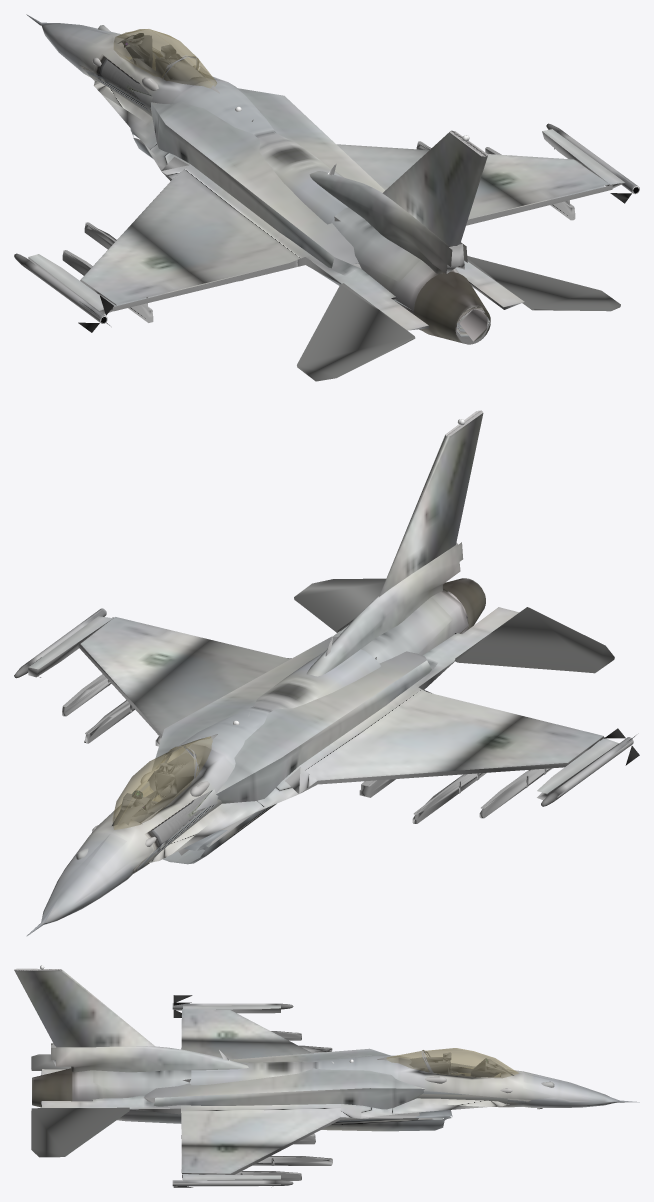
The picture shows the model from 3 angles, top to bottom: view 1: azimuth 30°, elevation 25°; view 2: azimuth 150°, elevation 25°; view 3: azimuth 270°, elevation 25°; orthographic projection. The views are drawn at different scales.
Visible parts, largest first — view 1: body|F16_text_L, body|F16_text_R.001, body|Not_so_dark, body|F16_Grey, body|glass (×2), body|Whitish_grey.001, body|Material.001, body|Material.005; view 2: body|F16_text_L, body|F16_text_R.001, body|glass, body|Material.001, body|F16_Grey, body|Not_so_dark, body|Whitish_grey.001, body|Darker_paint.001; view 3: body|F16_text_R.001, body|F16_text_L, body|glass (×2), body|Not_so_dark, body|Material.001, body|F16_Grey, body|Whitish_grey.001.
Part boxes in pixels (x1,y1,x2,y2): body|F16_text_L: (29, 88, 624, 344); body|F16_text_R.001: (26, 14, 620, 381); body|Not_so_dark: (14, 123, 639, 343); body|F16_Grey: (28, 56, 624, 314); body|glass (×2): (113, 29, 216, 88); body|Whitish_grey.001: (118, 33, 204, 81); body|Material.001: (62, 142, 575, 322); body|Material.005: (455, 307, 487, 341); body|F16_text_L: (28, 589, 618, 803); body|F16_text_R.001: (26, 413, 614, 936); body|glass: (112, 746, 197, 829); body|Material.001: (62, 676, 552, 823); body|F16_Grey: (28, 542, 617, 855); body|Not_so_dark: (14, 578, 633, 806); body|Whitish_grey.001: (112, 753, 201, 825); body|Darker_paint.001: (63, 674, 532, 814); body|F16_text_R.001: (14, 970, 639, 1174); body|F16_text_L: (41, 1005, 424, 1180); body|glass (×2): (386, 1048, 518, 1078); body|Not_so_dark: (32, 1003, 293, 1186); body|Material.001: (182, 1031, 332, 1180); body|F16_Grey: (51, 1008, 436, 1180); body|Whitish_grey.001: (409, 1052, 513, 1077).
Size of the model in its own units: 10.32 by 4.27 by 15.03.
26 materials, 5 textured.
